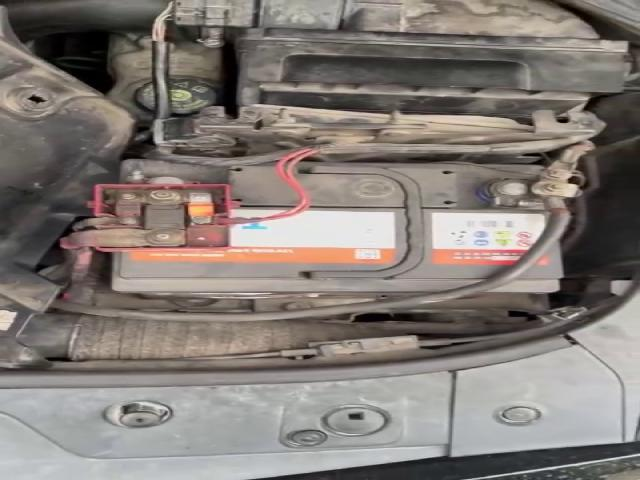accumulator: (84, 159, 576, 300)
